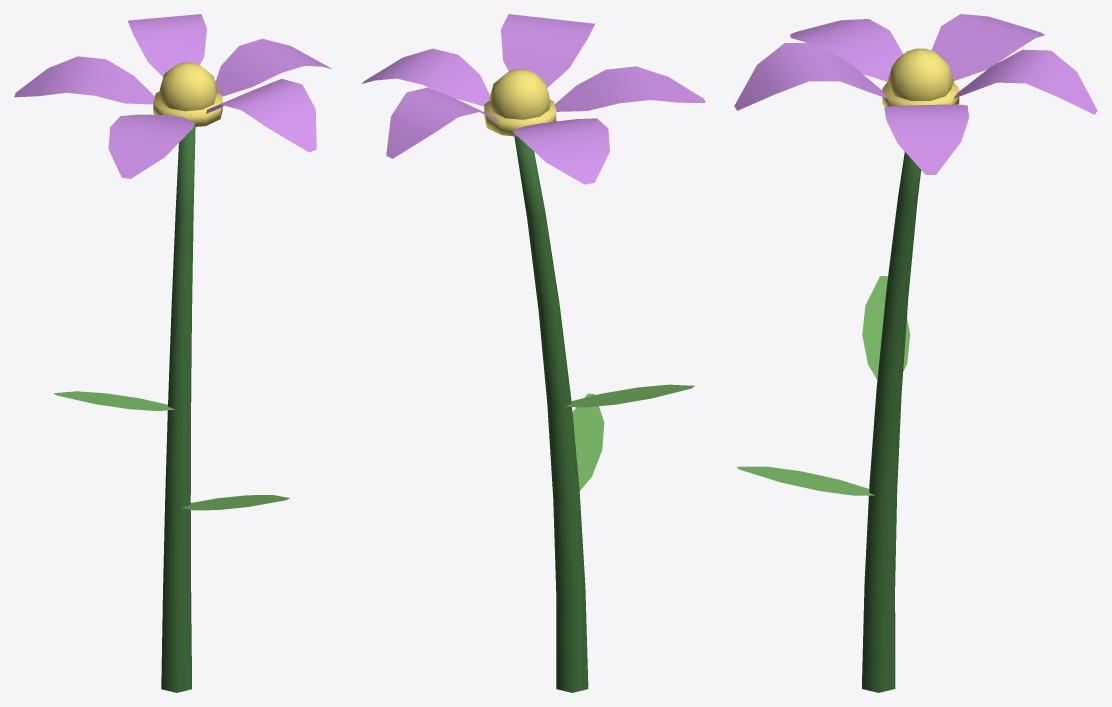
File: flower_purpleA.glb
The picture shows the model from 3 angles, left to right: view 1: azimuth 30°, elevation 25°; view 2: azimuth 150°, elevation 25°; view 3: azimuth 270°, elevation 25°; orthographic projection. The views are drawn at different scales.
Parts seen in each view (by area): view 1: flower_purpleA; view 2: flower_purpleA; view 3: flower_purpleA.
Boxes of the visible parts, x1=… form: flower_purpleA: x1=14, y1=14, x2=331, y2=692; flower_purpleA: x1=361, y1=14, x2=705, y2=692; flower_purpleA: x1=734, y1=14, x2=1097, y2=692.
Size of the model in its own units: 0.1355 by 0.2623 by 0.1323.
